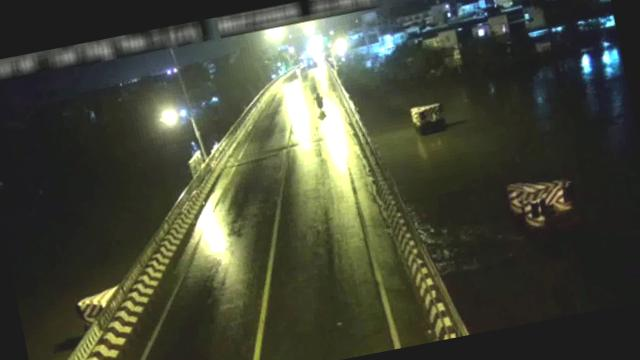Bike: (314, 91, 328, 112)
